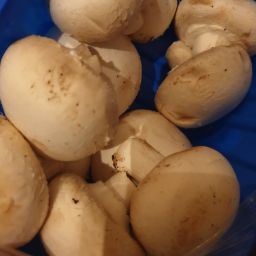Mushrooms: (112, 124, 244, 256), (4, 34, 125, 160), (149, 28, 256, 131), (49, 165, 141, 256), (118, 101, 201, 184), (175, 2, 256, 82), (1, 115, 52, 242), (48, 1, 179, 48)
